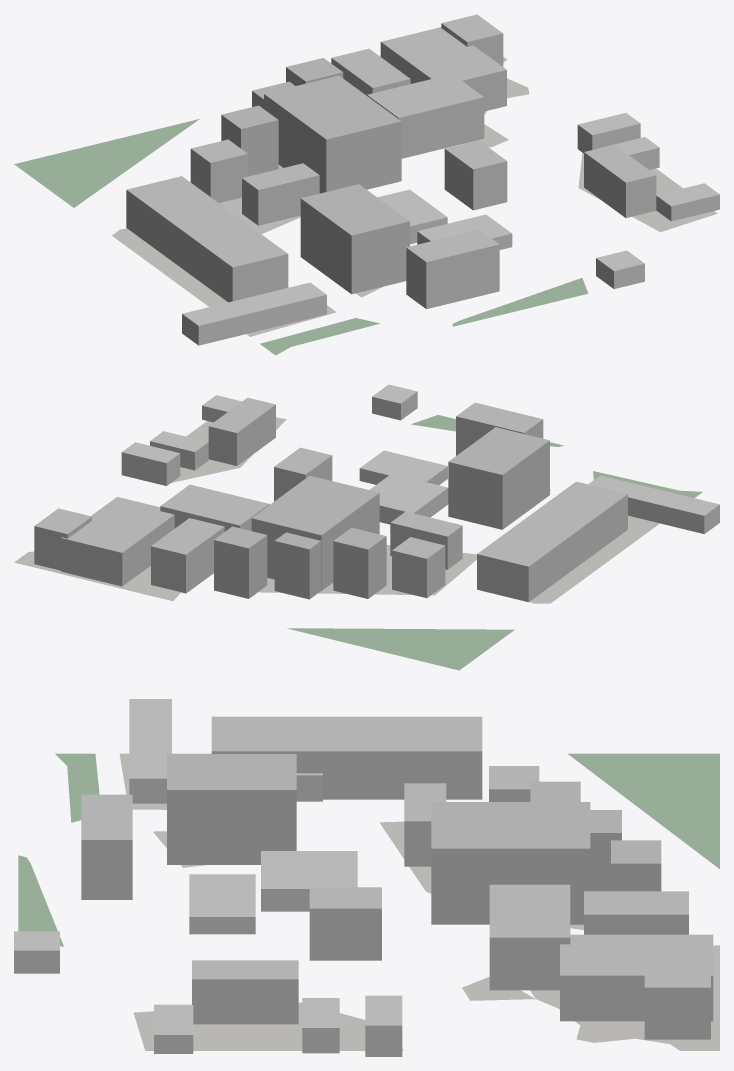
File: 120_114_mid.glb
3 views of the same model, one above another, from view 1: azimuth 30°, elevation 25°; view 2: azimuth 150°, elevation 25°; view 3: azimuth 270°, elevation 25° (orthographic). The views are drawn at different scales.
Bounding box in the file's own units: 559 × 60.02 × 503.
